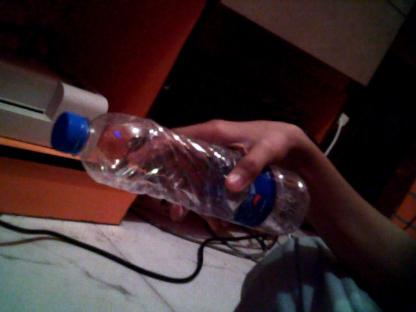Plastic Bottle: (51, 111, 312, 237)
